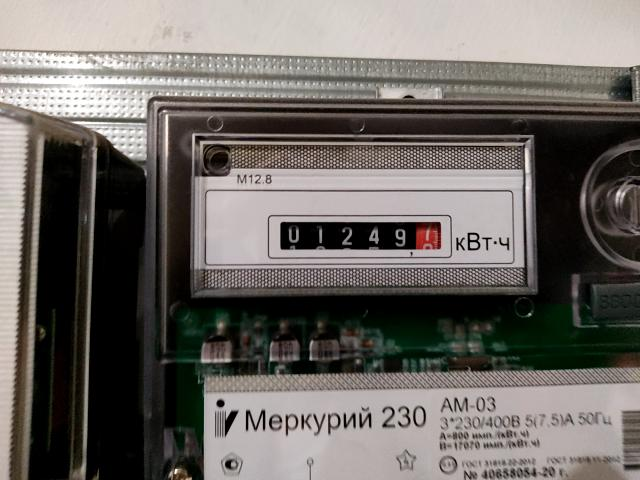0: (287, 224, 301, 244)
1: (314, 224, 326, 245)
2: (339, 225, 355, 247)
4: (368, 225, 381, 245)
7: (422, 222, 435, 242)
9: (394, 227, 407, 248)
screen: (265, 211, 456, 261)
